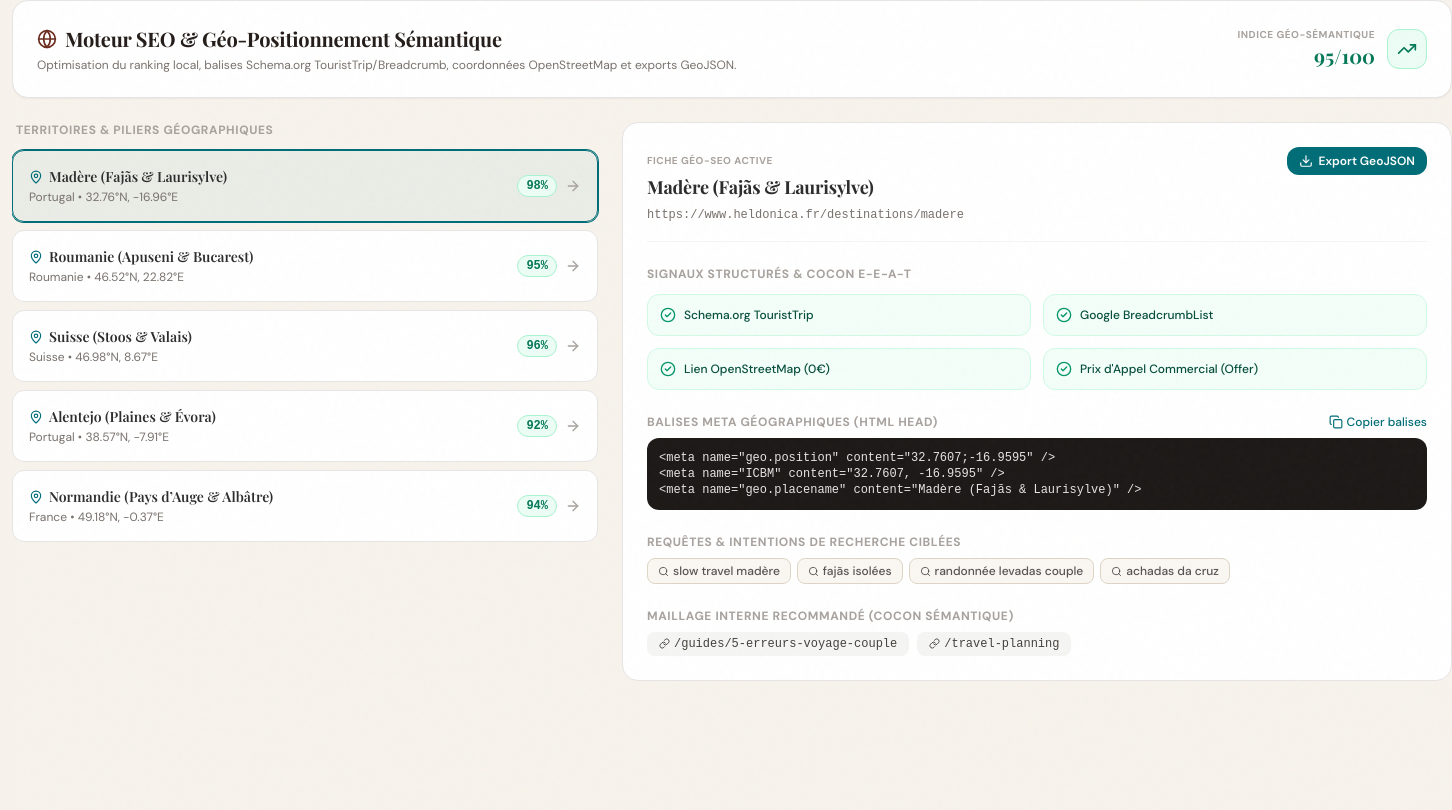
Test: SeoGeoEngine › switches active destination card on click
The image size is (1452, 810).
Click the text "Roumanie (Apuseni & Bucarest)".
click(151, 257)  # box [49,247,253,267]
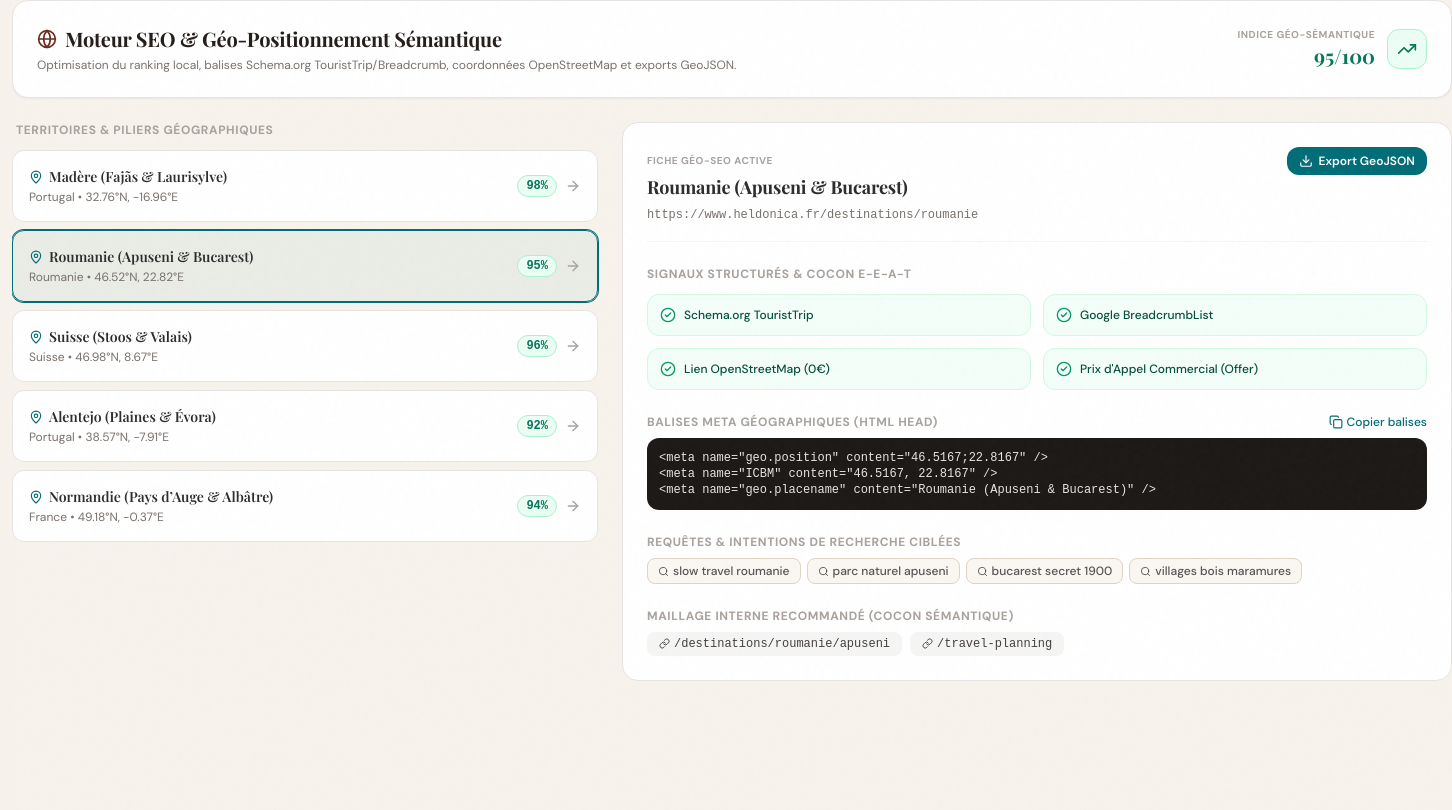
Result: the text "https://www.heldonica.fr/destinations/roumanie" is shown at [647,208,978,222]
